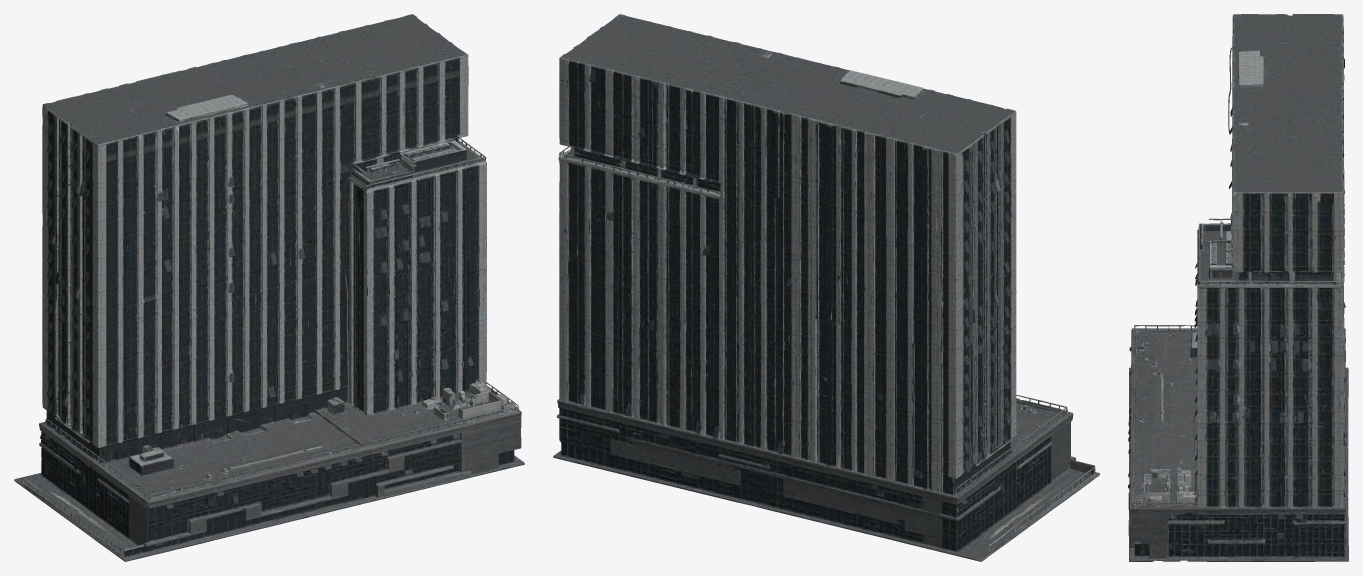
The model's file is cc7627a7-aedc-49c5-91d8-9de33202313d.glb.
3 renders of one model, left to right at view 1: azimuth 30°, elevation 25°; view 2: azimuth 150°, elevation 25°; view 3: azimuth 270°, elevation 25°, orthographic. The views are drawn at different scales.
Size of the model in its own units: 1.9 by 1.7 by 0.918.
Materials: 1 (1 with a texture image).
